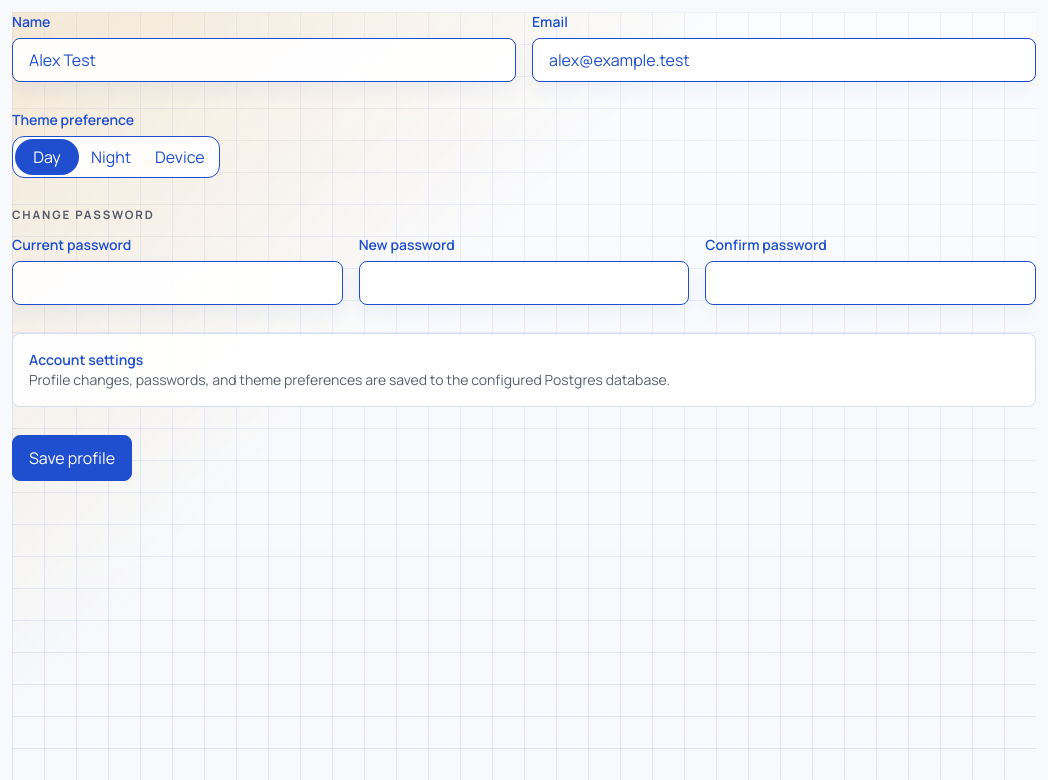
Test case: ProfileForm › submits and shows a saved status
This screenshot has width=1048, height=780.
Click the button "Save profile" at (72,458), box left=12, top=435, right=132, bottom=481
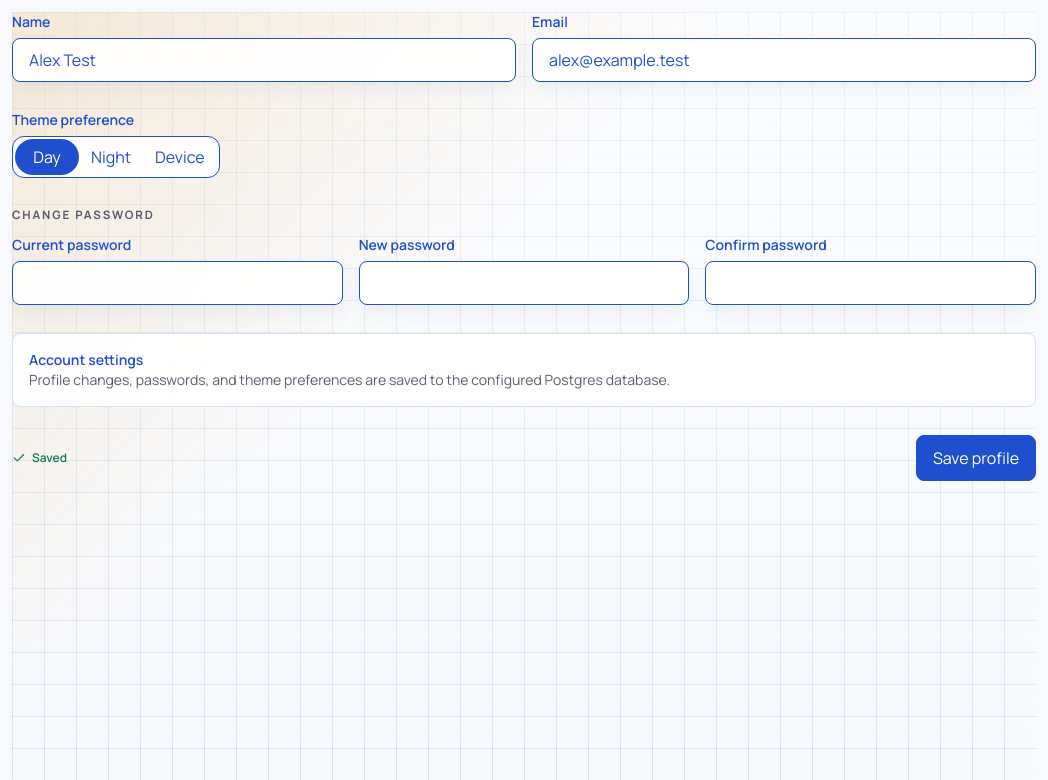
Now the message reads "Saved", box left=32, top=449, right=67, bottom=466
